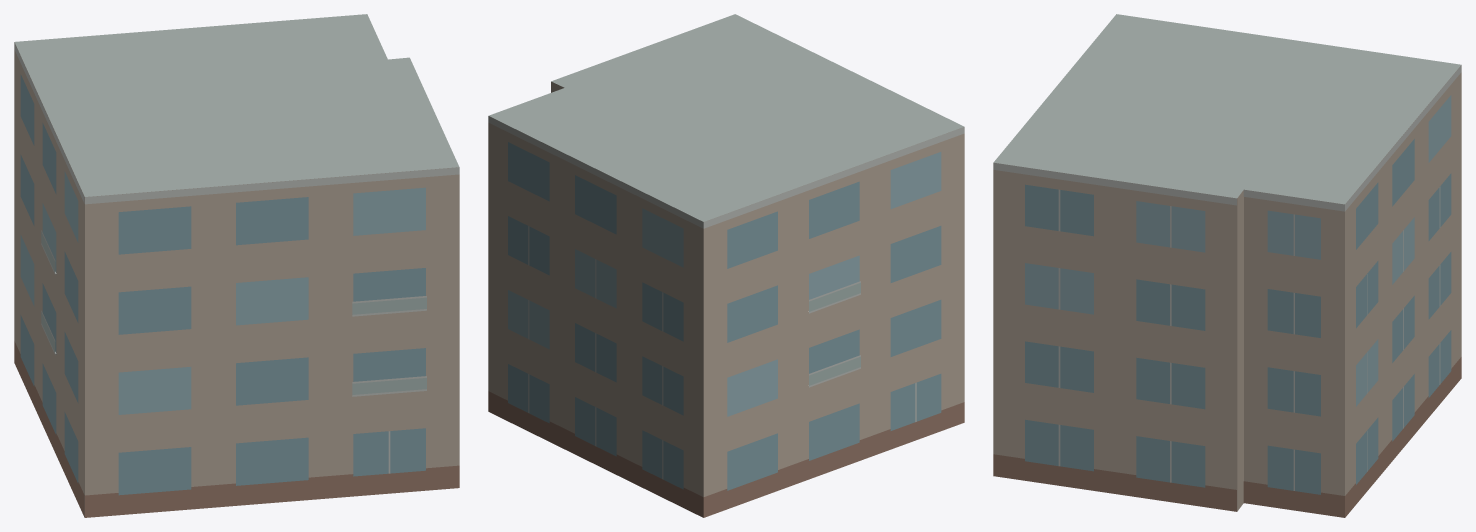
The model's file is survey-upis-32712231.glb.
The picture shows the model from 3 angles, left to right: view 1: azimuth 30°, elevation 25°; view 2: azimuth 150°, elevation 25°; view 3: azimuth 270°, elevation 25°; orthographic projection. The views are drawn at different scales.
Parts seen in each view (by area): view 1: survey-upis-32712231.tmp; view 2: survey-upis-32712231.tmp; view 3: survey-upis-32712231.tmp.
Boxes of the visible parts, bbox=[...] form: survey-upis-32712231.tmp: bbox=[14, 14, 459, 517]; survey-upis-32712231.tmp: bbox=[488, 14, 964, 517]; survey-upis-32712231.tmp: bbox=[993, 14, 1461, 517].
Bounding box in the file's own units: 13.95 × 10.7 × 14.5.
